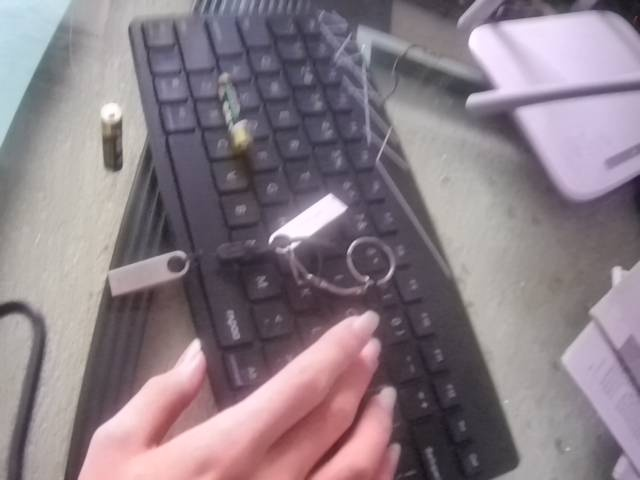U-disk: (270, 188, 397, 297), (101, 251, 194, 298)
battery: (207, 64, 258, 155), (96, 100, 129, 176)
